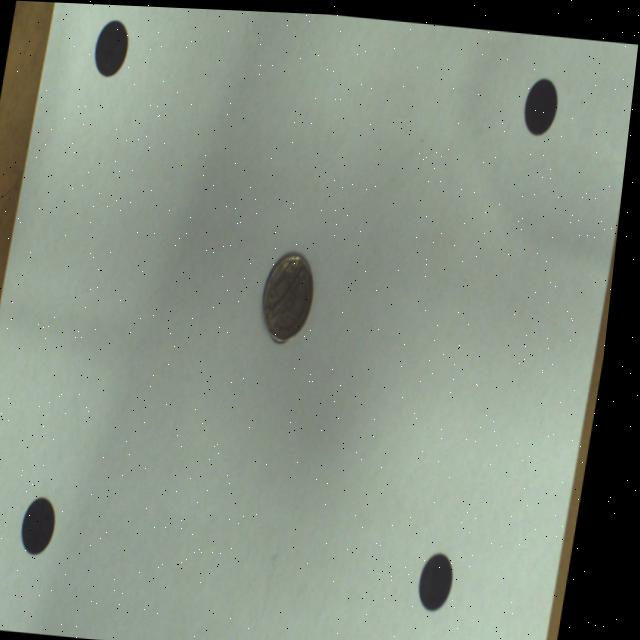space: (526, 74, 560, 131), (432, 549, 466, 606), (96, 19, 129, 76), (34, 497, 67, 554)
tail5bath: (269, 249, 320, 341)
